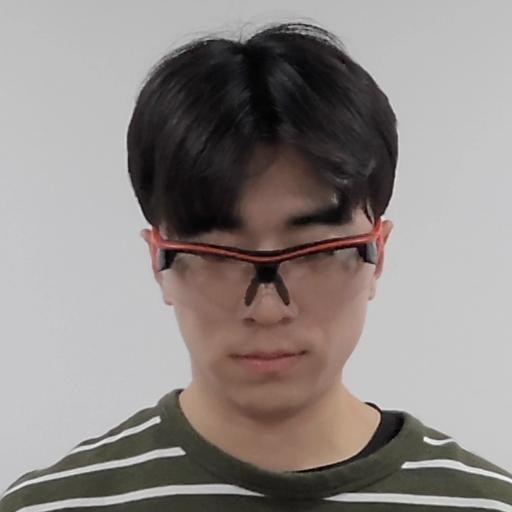glasses: (118, 28, 410, 407)
